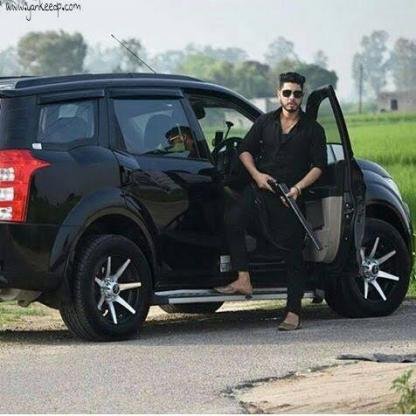rifle: (251, 178, 324, 254)
